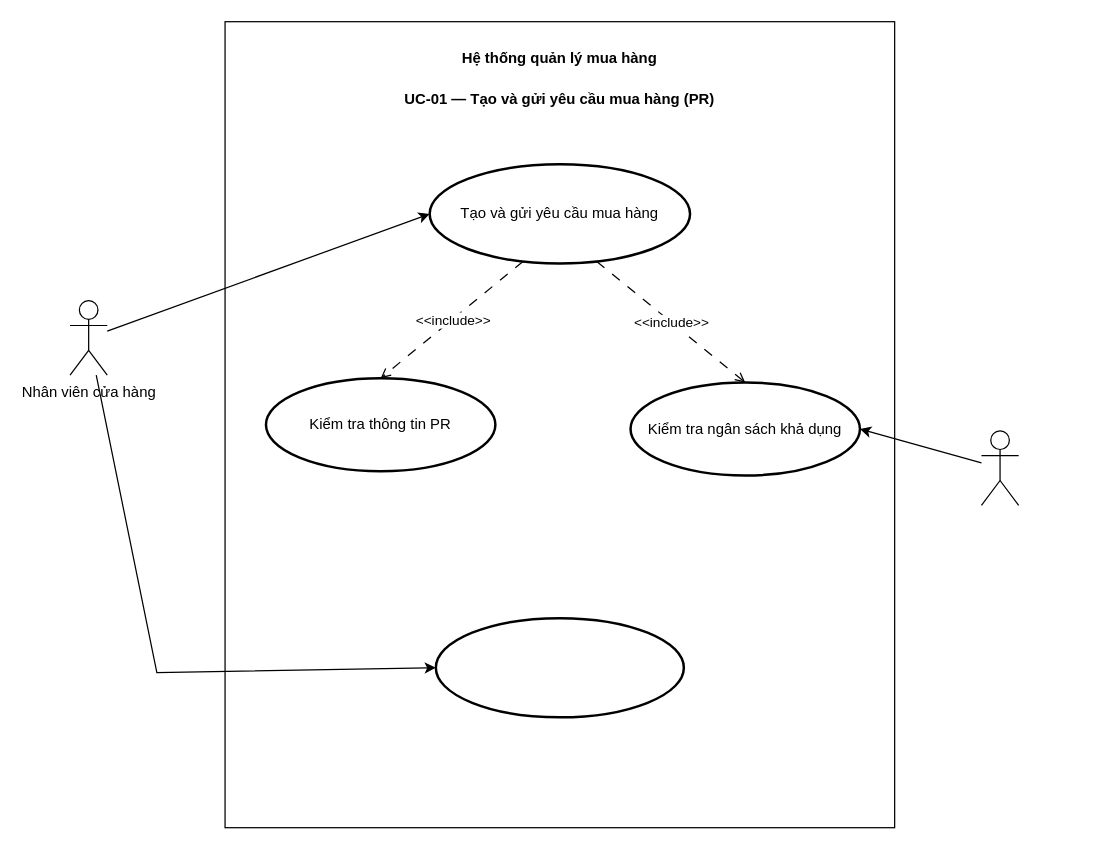
This 1104x849 diagram has some shape labels left out. The centre of each missing label's shape, as x and y in pixels:
Chỉnh sửa yêu cầu mua hàng: pixel 559 667
Nguồn dữ liệu ngân sách: pixel 999 467
